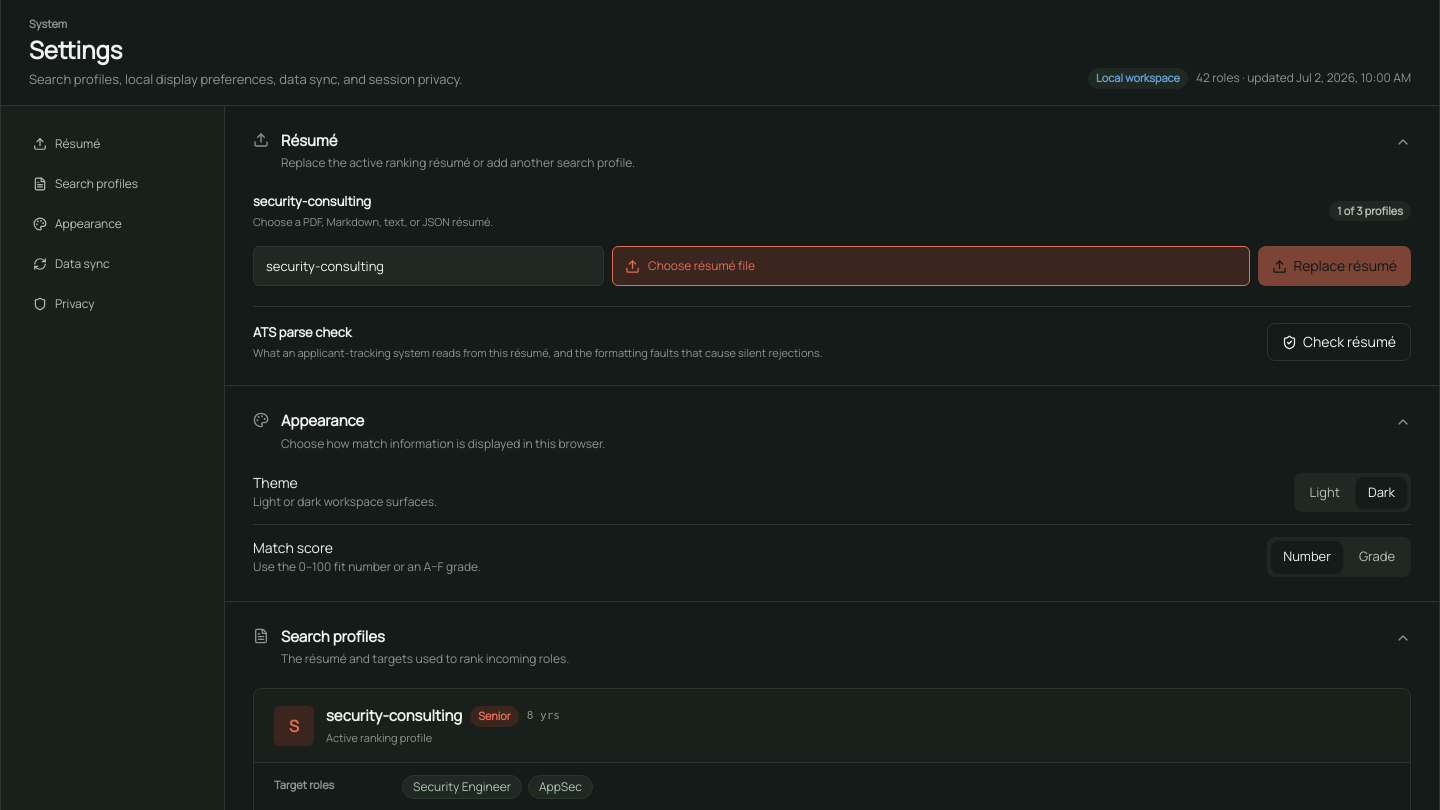
Test: Settings lens › reports the ATS score and the formatting faults to fix
The width and height of the screenshot is (1440, 810).
Click the button "Check résumé" at (1339, 342), box [1267,323,1411,361]
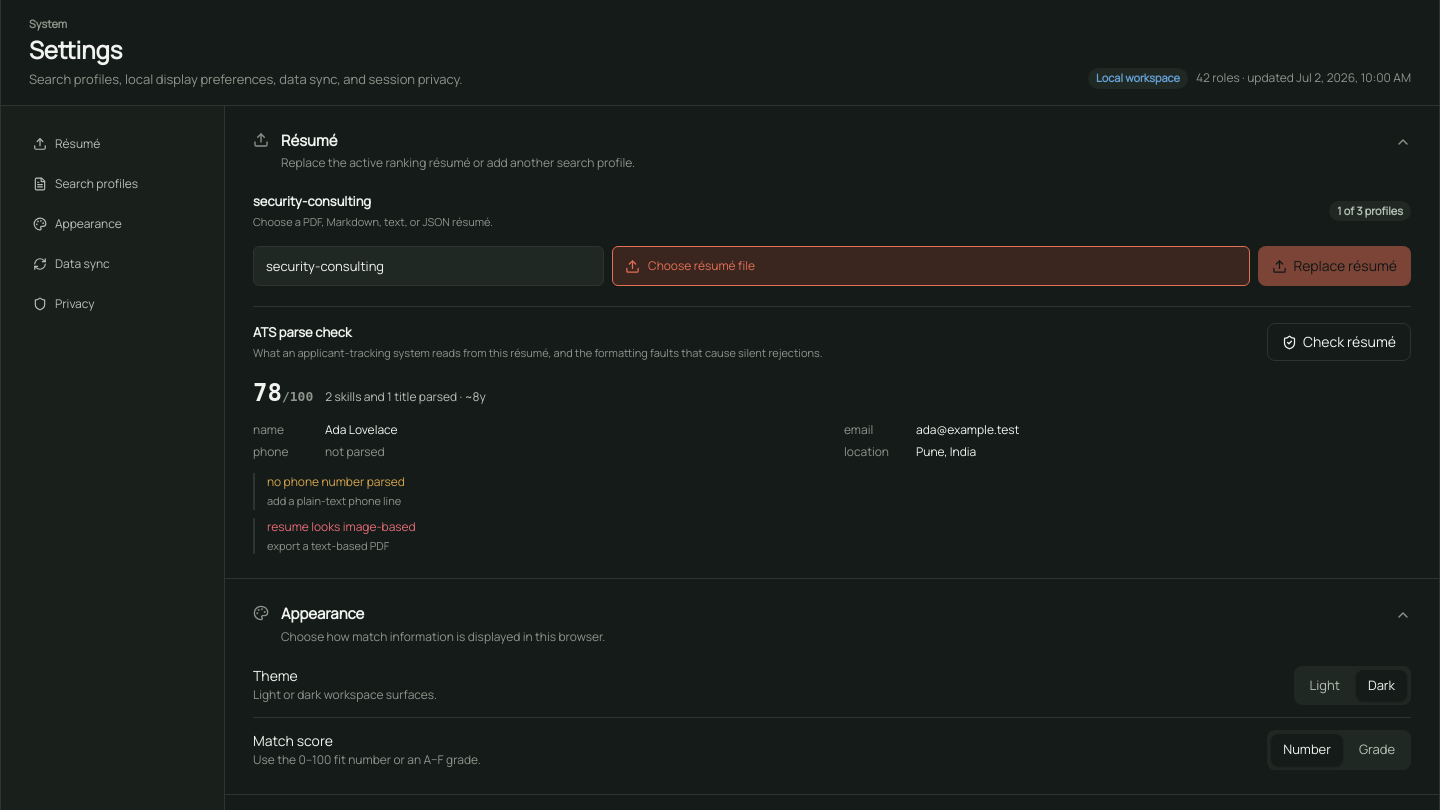
Check: the text "78" is shown, box [253,379,282,407]
Check: the text "2 skills and 1 title parsed · ~8y" is shown, box [325,388,486,406]
Check: the text "no phone number parsed" is shown, box [267,473,405,490]
